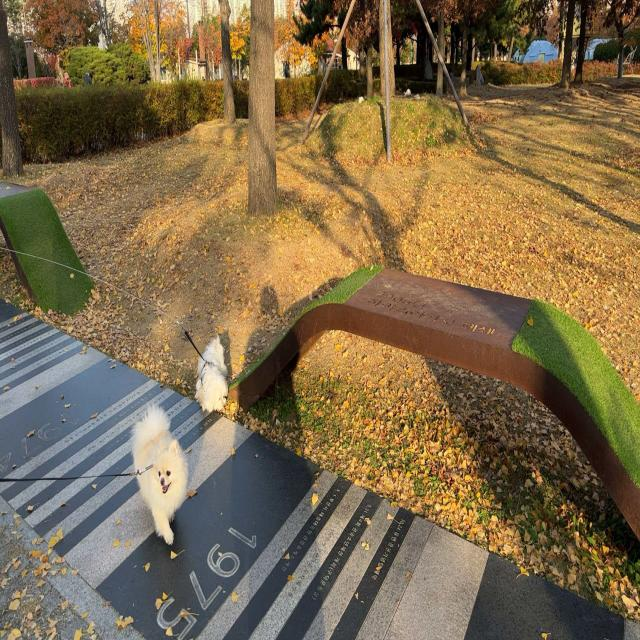Dog: (130, 399, 188, 546), (195, 333, 229, 415)
